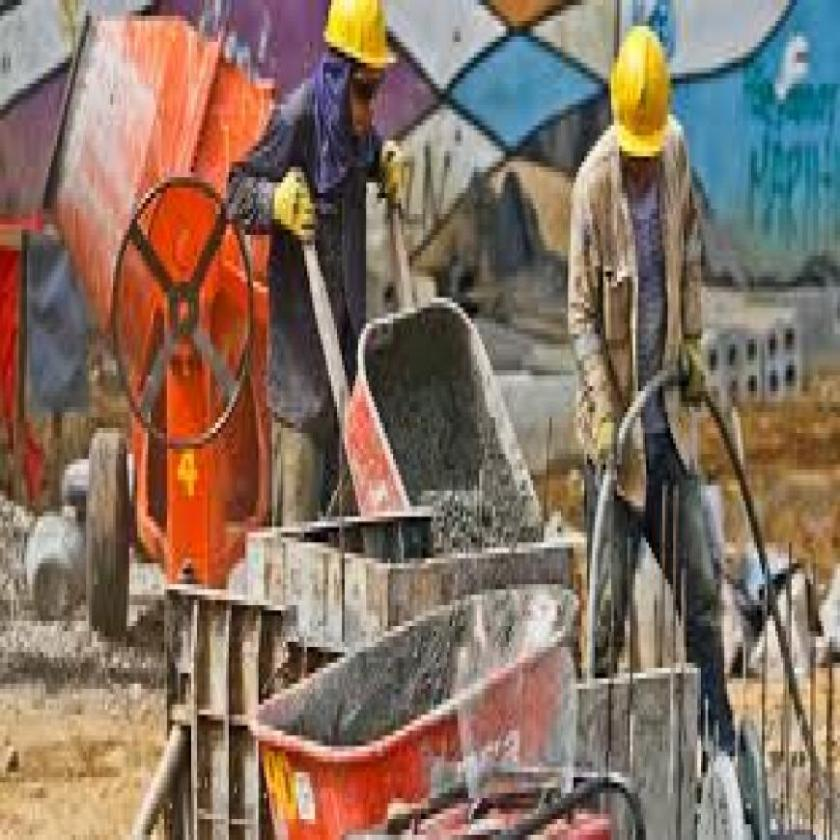Con_casco: (322, 0, 406, 165), (608, 24, 672, 199)
